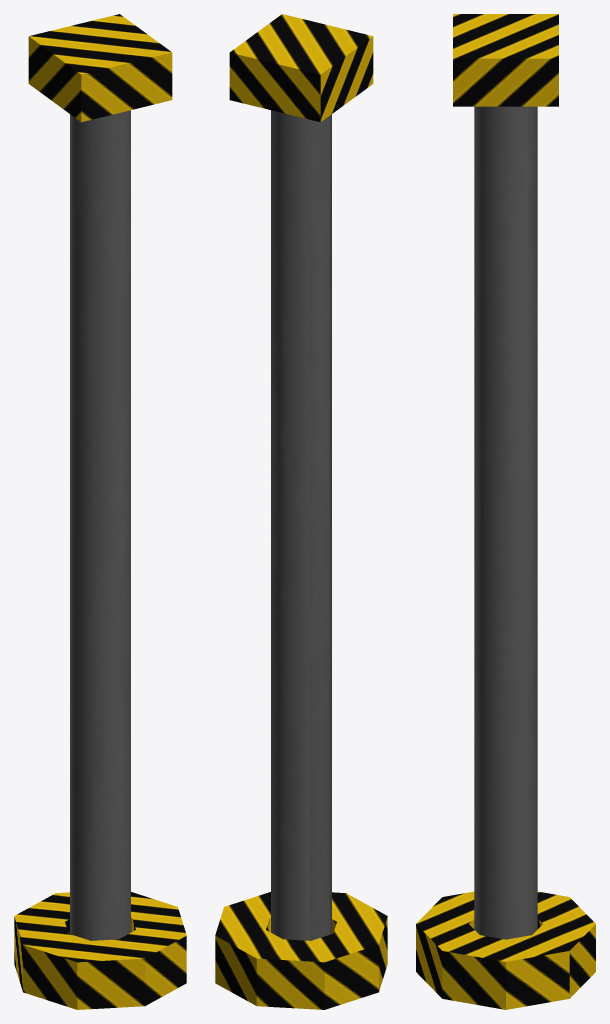
Rendered from Piston.fbx.
3 views of the same model, side by side, from view 1: azimuth 30°, elevation 25°; view 2: azimuth 150°, elevation 25°; view 3: azimuth 270°, elevation 25° (orthographic).
Parts seen in each view (by area): view 1: Piston; view 2: Piston; view 3: Piston.
Part boxes in pixels (x1=…): Piston: x1=14, y1=14, x2=186, y2=1009; Piston: x1=215, y1=14, x2=387, y2=1009; Piston: x1=416, y1=14, x2=595, y2=1009.
Size of the model in its own units: 1.7 by 9.75 by 1.7.
